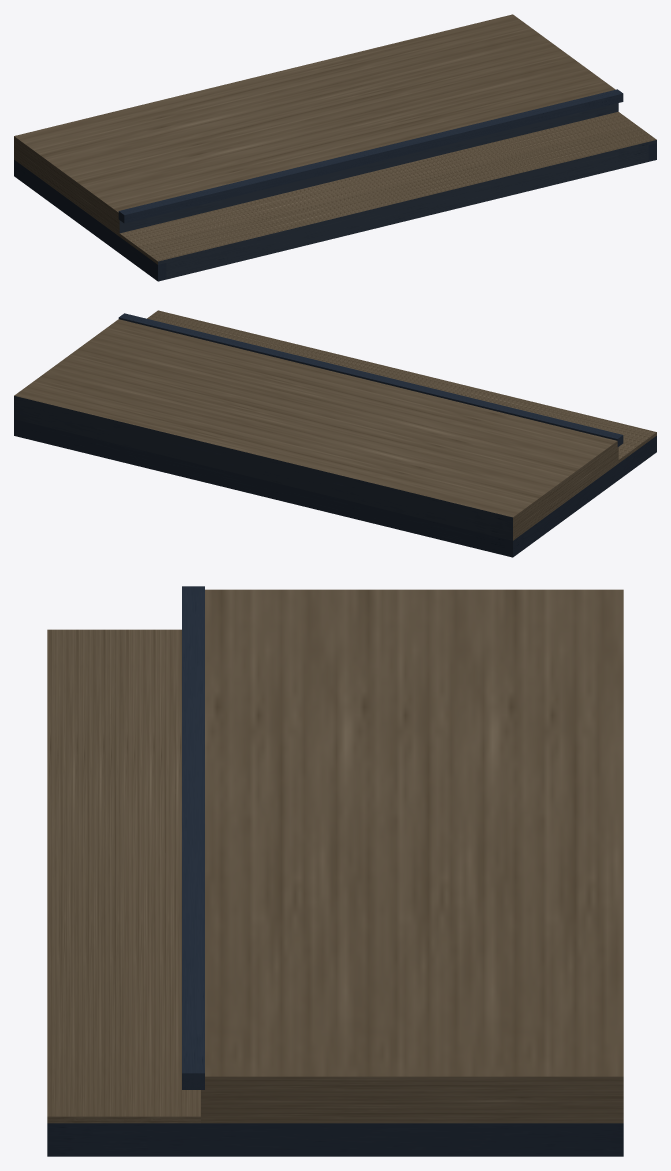
Rendered from house_05_porch_deck.glb.
3 views of the same model, one above another, from view 1: azimuth 30°, elevation 25°; view 2: azimuth 150°, elevation 25°; view 3: azimuth 270°, elevation 25° (orthographic). The views are drawn at different scales.
Visible parts, largest first — view 1: outdoor_house_05_porch_deck; view 2: outdoor_house_05_porch_deck; view 3: outdoor_house_05_porch_deck.
Part boxes in pixels (box(x1,y1,x2,y2)): outdoor_house_05_porch_deck: box(14, 14, 656, 281); outdoor_house_05_porch_deck: box(14, 310, 656, 557); outdoor_house_05_porch_deck: box(47, 586, 623, 1156).
Size of the model in its own units: 3 by 0.24 by 1.5.
Materials: 1 (1 with a texture image).
